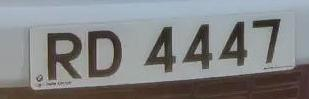4: (140, 18, 183, 79), (180, 16, 218, 77), (217, 13, 254, 74)
7: (248, 14, 288, 71)
D: (81, 26, 126, 84)
R: (41, 24, 86, 85)
